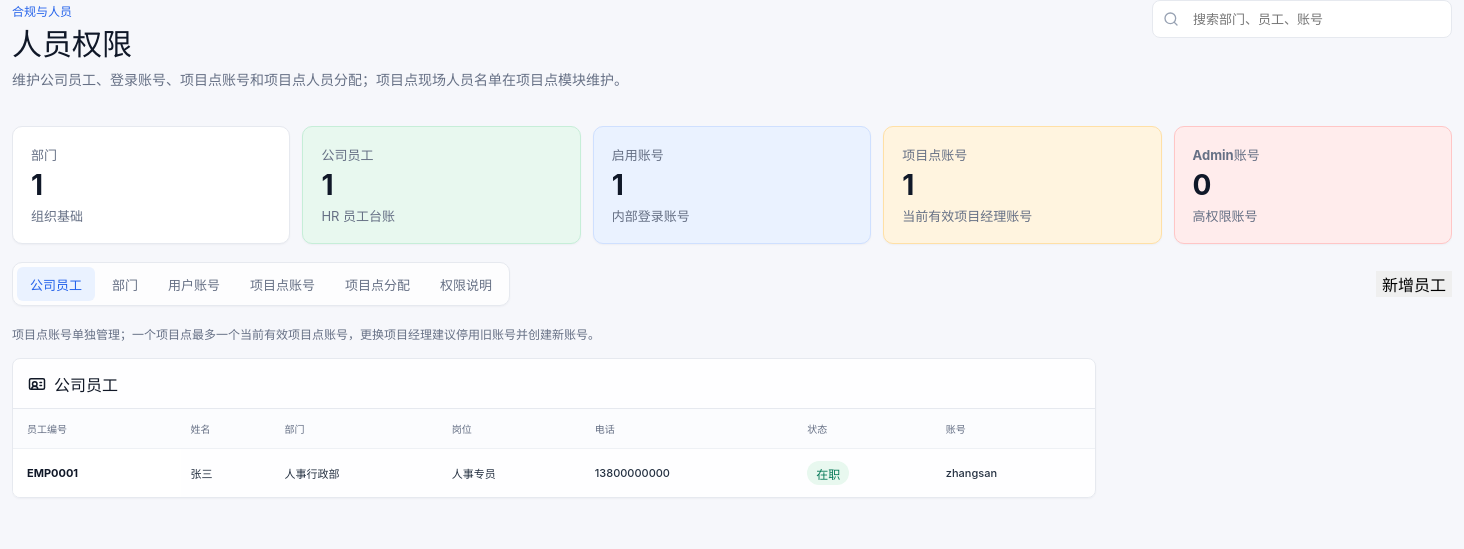
Test: main table density › keeps the external project-site account table under seven columns
Expected: the text "EMP0001" is shown, [13,449,181,498]
What coordinates should you click on to do the following:
click the tab "项目点账号"
I would click on:
 (282, 284)
Its box is [237,268,328,302].
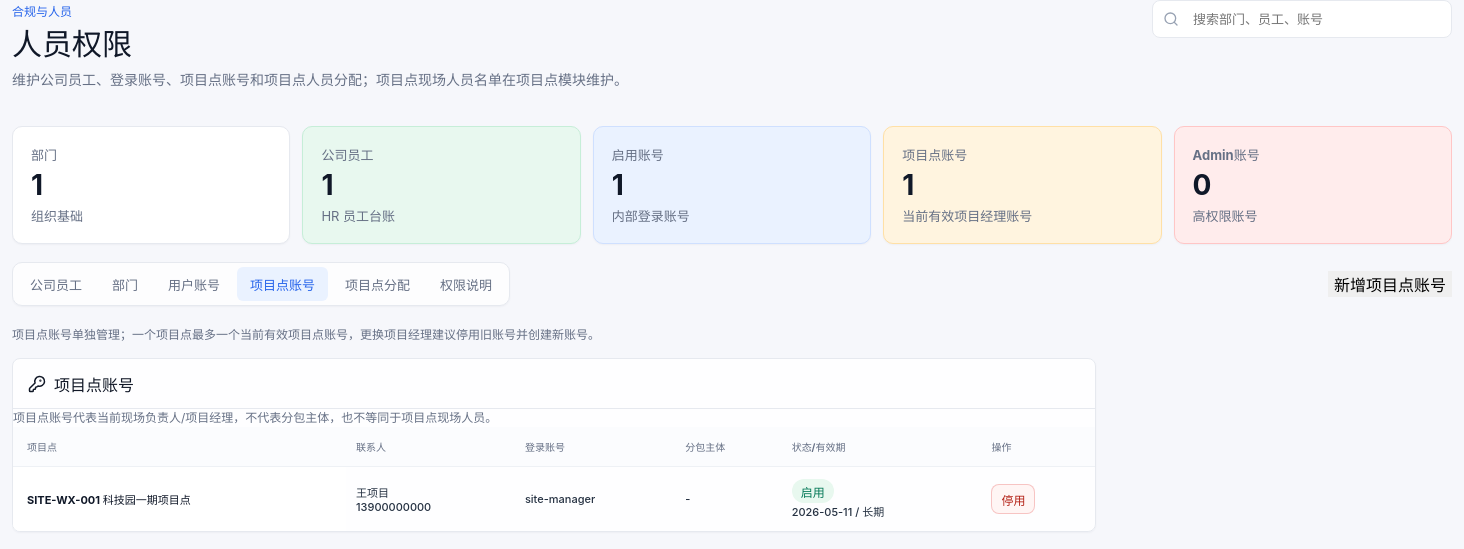
Result: the text "site-manager" is shown at [515,467,675,532]
Result: the text "13900000000" is shown at [356,500,431,514]
